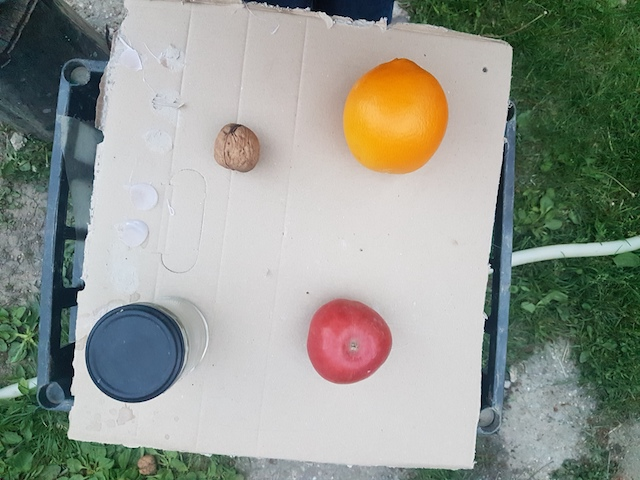apple: (306, 297, 394, 387)
nut: (213, 121, 260, 174)
orange: (341, 60, 449, 176)
recipient: (84, 306, 184, 407)
